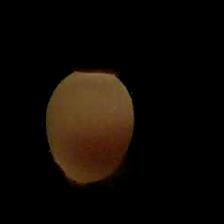infertile: (43, 65, 136, 187)
